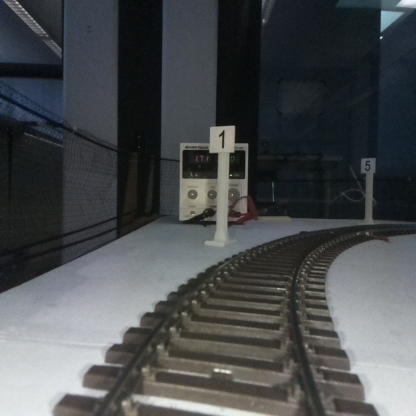white-info-1: (209, 126, 234, 243)
white-info-5: (361, 156, 375, 222)
